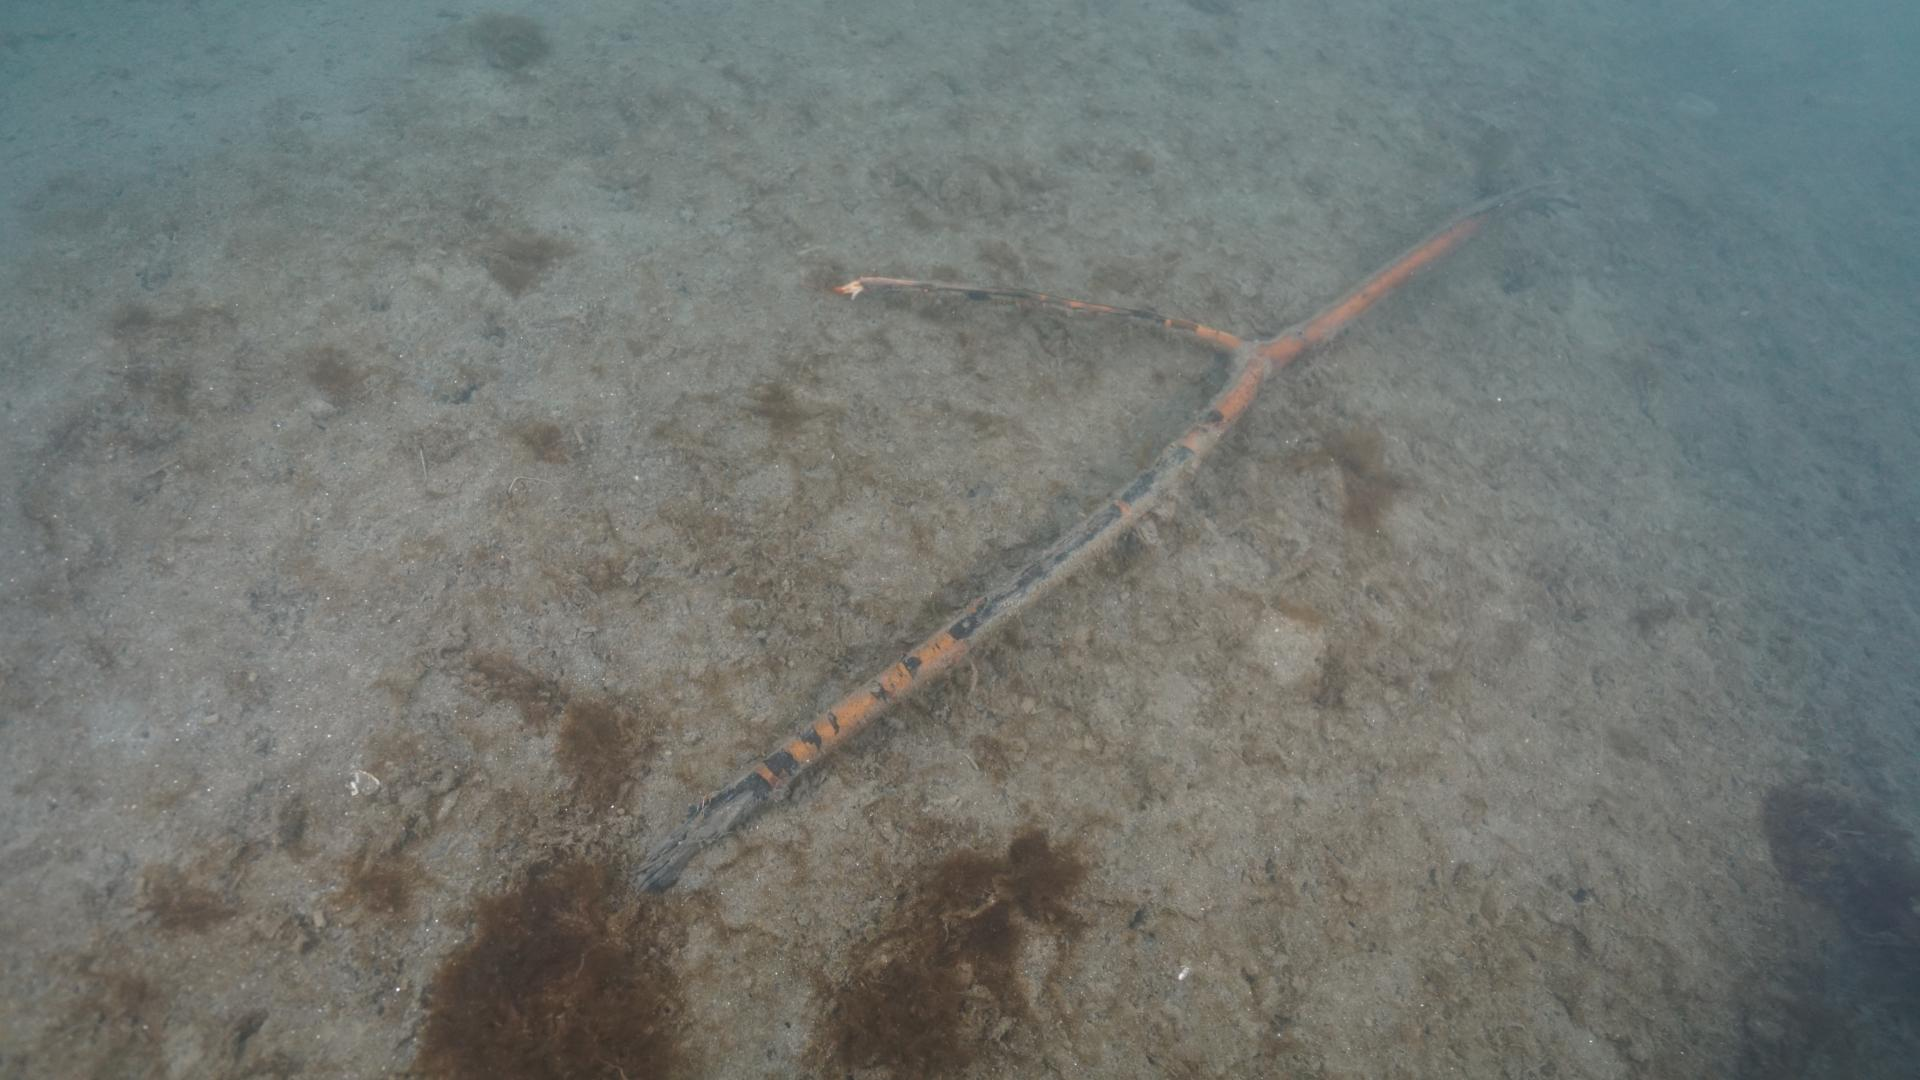wood: (628, 173, 1572, 902)
